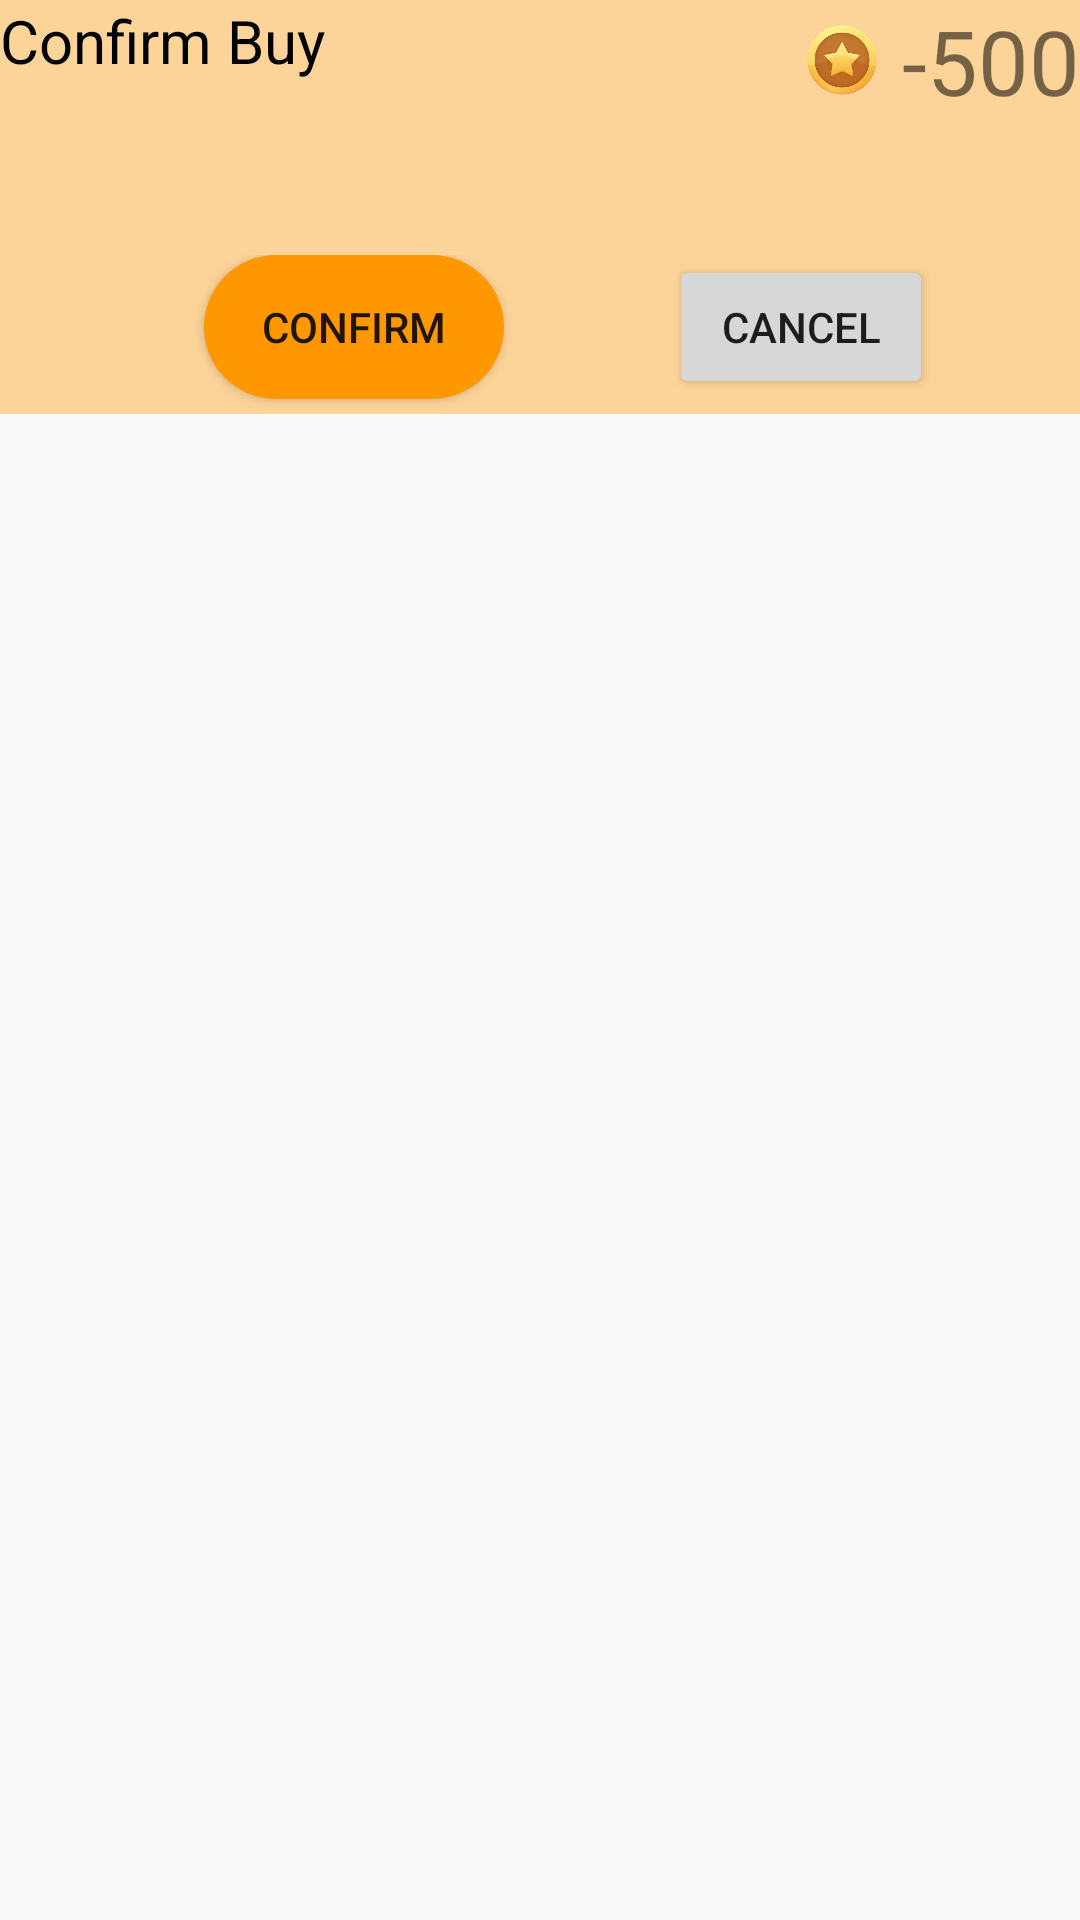

Screen size 1080px×1920px. Icon name, then its box in pixels as (x1, y1, x2, y2):
goldencoins: (807, 26, 877, 95)
